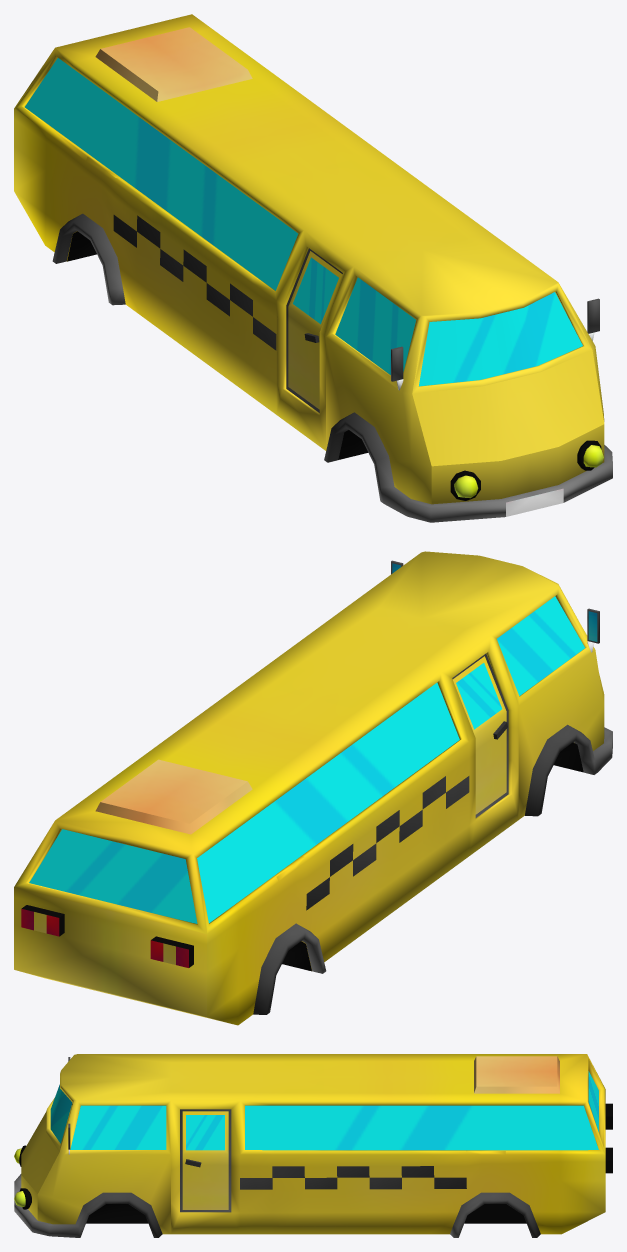
The model's file is Bus_1.fbx.
The picture shows the model from 3 angles, top to bottom: view 1: azimuth 30°, elevation 25°; view 2: azimuth 150°, elevation 25°; view 3: azimuth 270°, elevation 25°; orthographic projection. The views are drawn at different scales.
Parts seen in each view (by area): view 1: Bus_1; view 2: Bus_1; view 3: Bus_1.
Part boxes in pixels (x1,y1,x2,y2): Bus_1: [14, 14, 612, 522]; Bus_1: [14, 551, 612, 1025]; Bus_1: [14, 1054, 612, 1237].
Bounding box in the file's own units: 283 × 236 × 987.
Materials: 2 (2 with a texture image).
